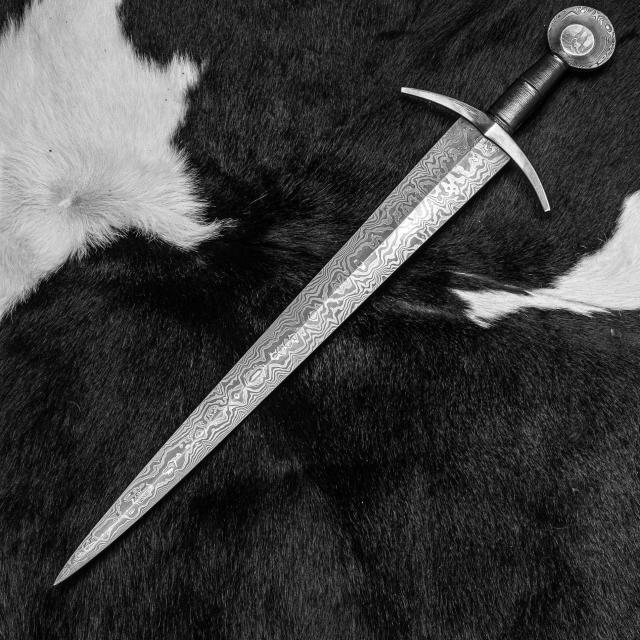Weapon: (55, 6, 614, 584)
